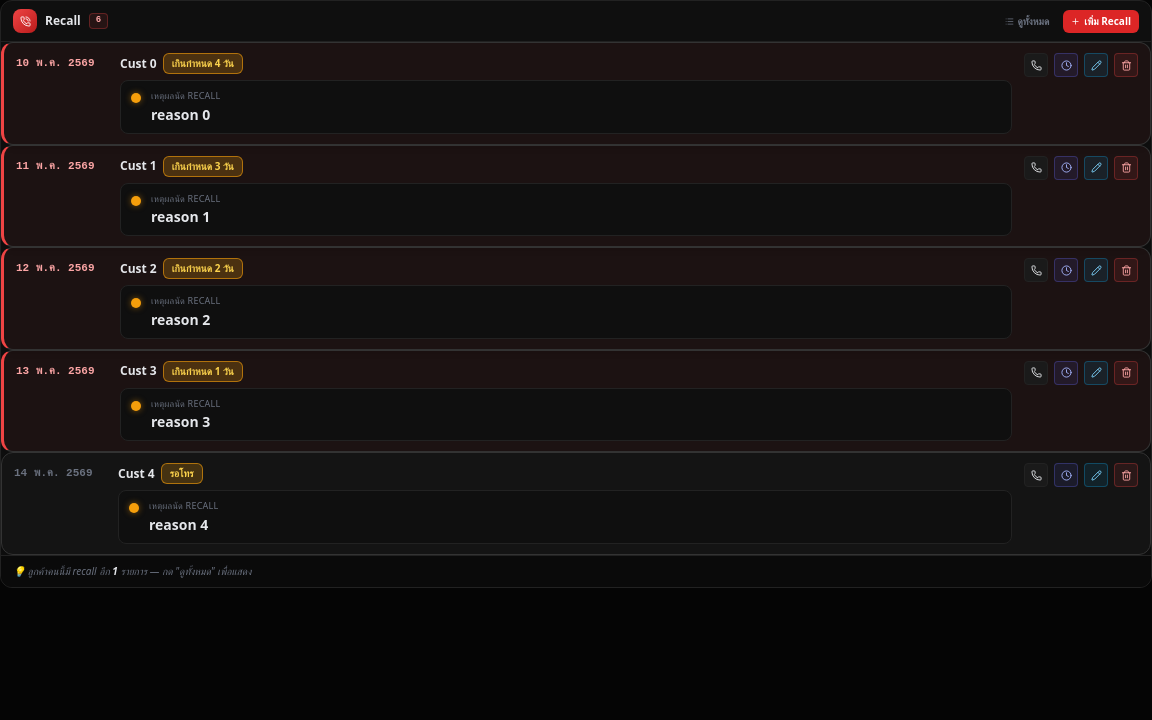
Phase 29 · CDV3 ดูทั้งหมด expand › CDV3.3 click ดูทั้งหมด expands to all 6 + hides hint
Click the button with test id "recall-card-view-all".
click(1027, 21)  # box [996,10,1057,32]
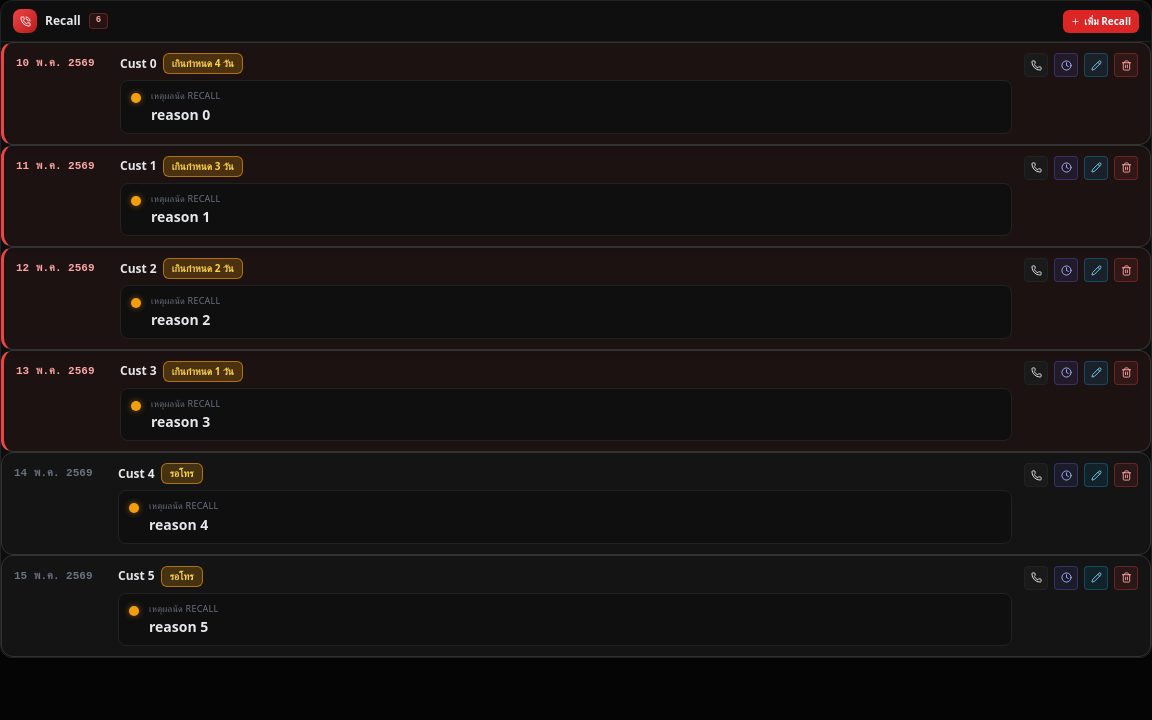
Expected: the element with test id "recall-card-footer-hint" is gone
